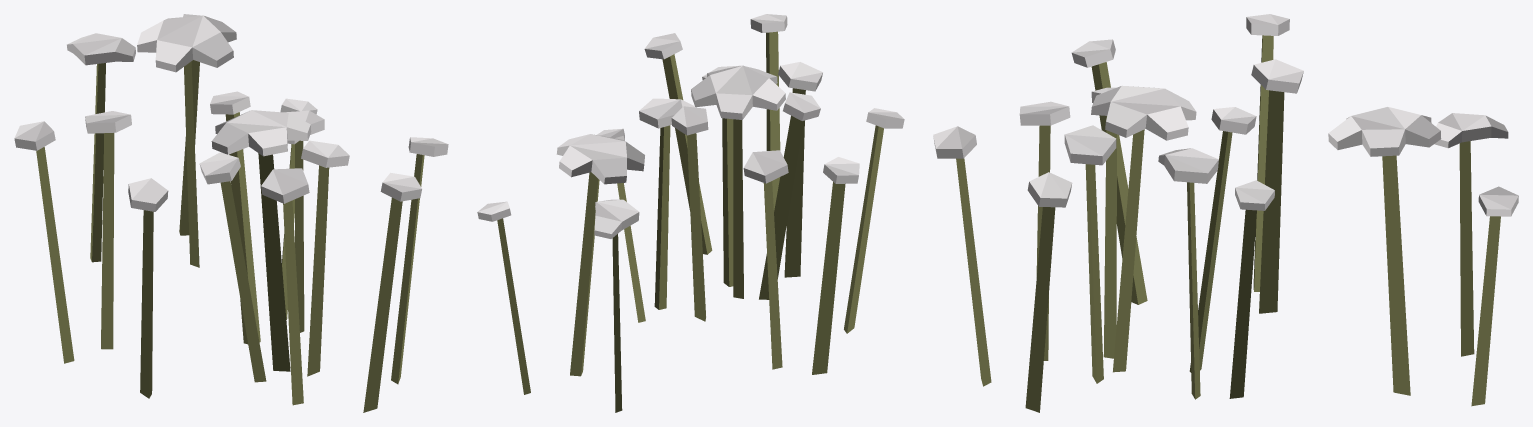
The model's file is env_flowers.gltf.
3 views of the same model, side by side, from view 1: azimuth 30°, elevation 25°; view 2: azimuth 150°, elevation 25°; view 3: azimuth 270°, elevation 25° (orthographic). The views are drawn at different scales.
Visible parts, largest first — view 1: env_flowers; view 2: env_flowers; view 3: env_flowers.
Boxes of the visible parts, bbox=[...] form: env_flowers: bbox=[14, 14, 448, 412]; env_flowers: bbox=[477, 14, 904, 412]; env_flowers: bbox=[933, 14, 1518, 412].
Size of the model in its own units: 1.04 by 0.7455 by 1.48.
Materials: 1 (1 with a texture image).
